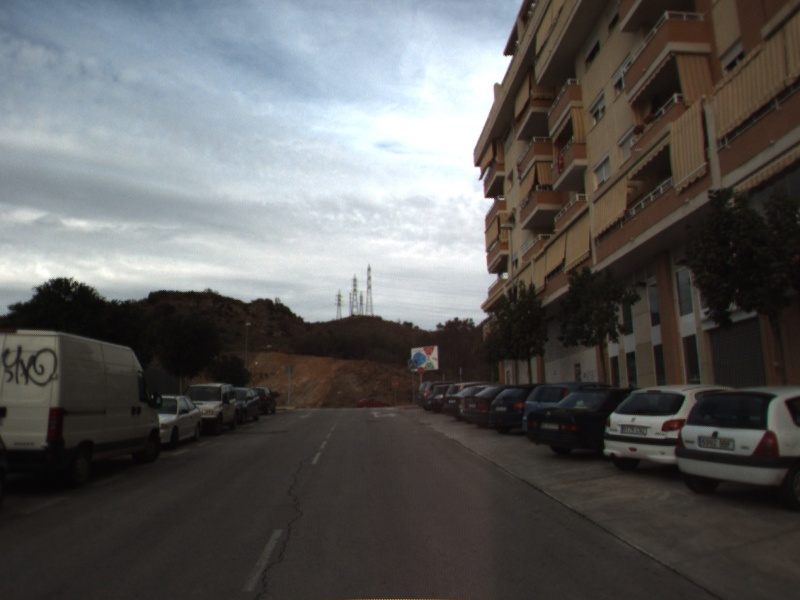STRAIGHT_RIGHT: (367, 409, 399, 419)
